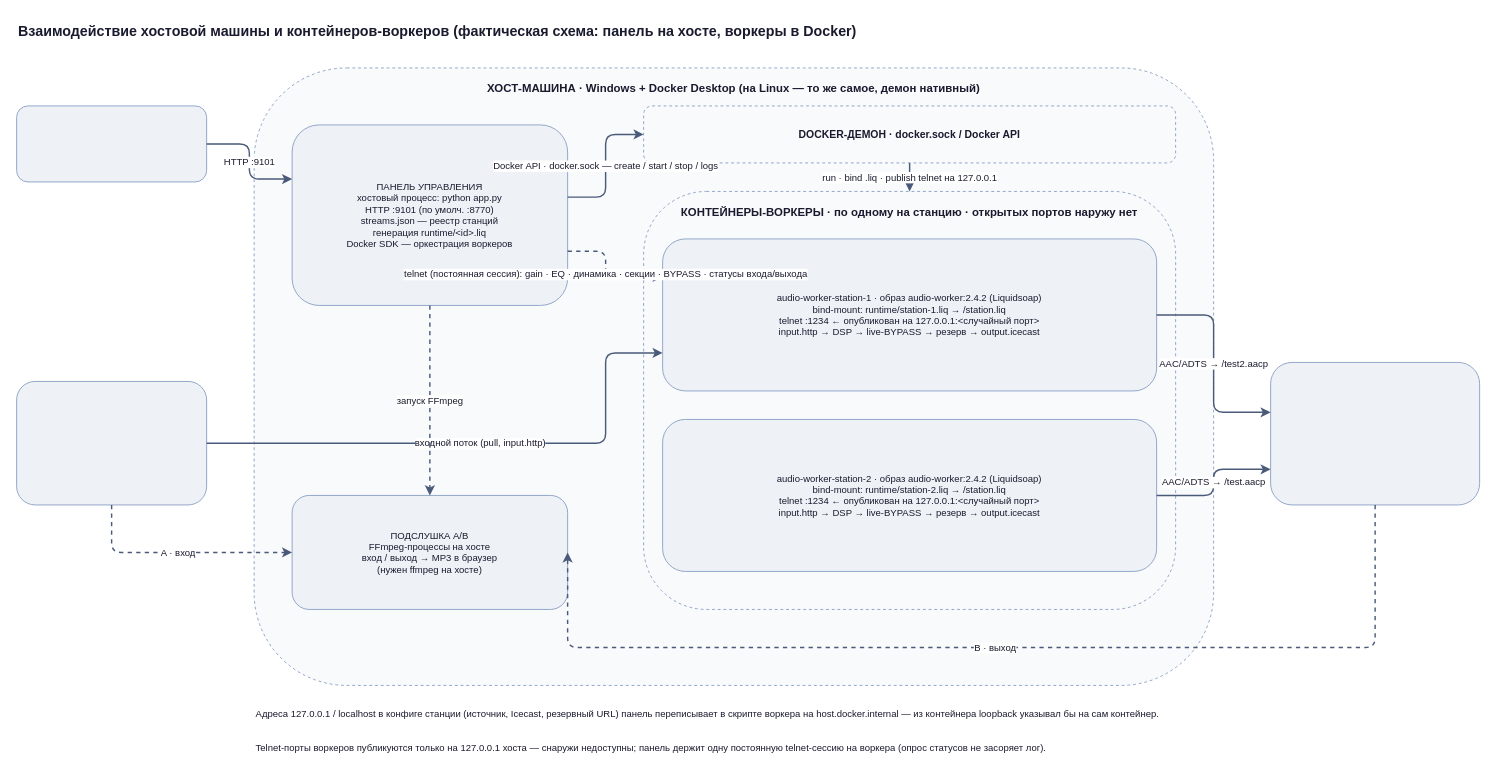
The diagram is 1496 pixels wide and 777 high, and some of its shapes have lost their labels. The shapes that lost their labels are listed below. From the top down, each one's centre as x and y in pixels, then its label:
At (x=111, y=143): "БРАУЗЕР дашборд · страница станции подслушка A/B".
At (x=111, y=442): "ИСТОЧНИКИ входные HTTP-потоки (интернет-радио, AAC / MP3, ICY)".
At (x=1375, y=433): "ICECAST ваш сервер: 127.0.0.1:8800 или внешний хостинг".
